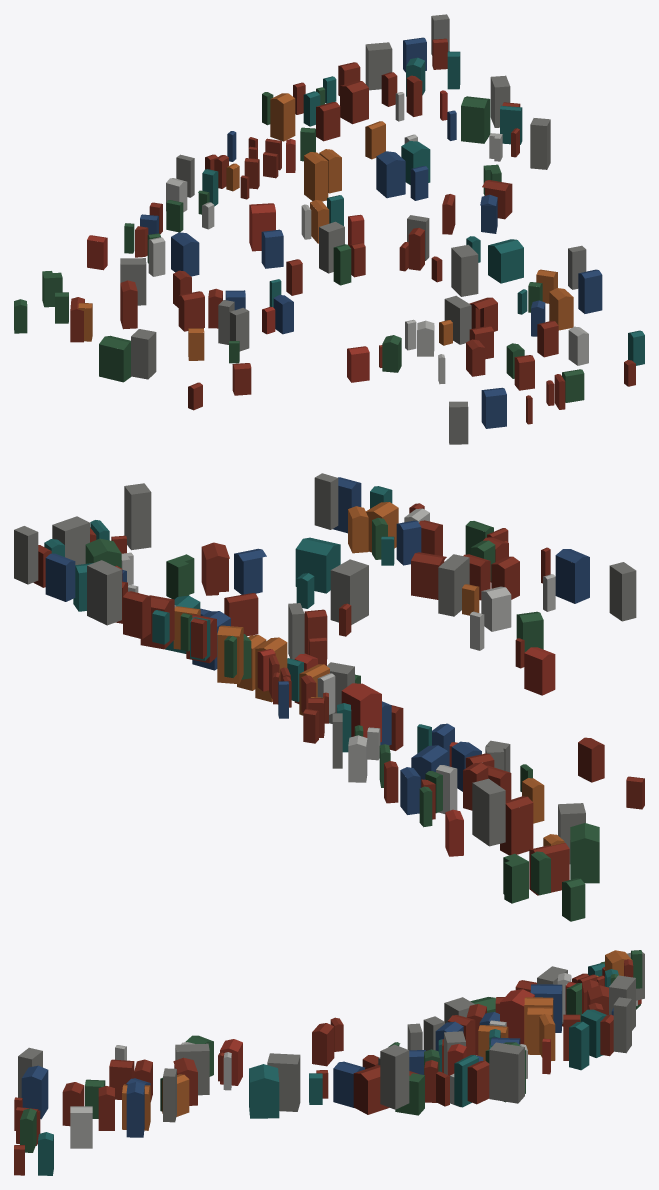
The model's file is near-17-109429-59477.929faeb1.glb.
3 views of the same model, one above another, from view 1: azimuth 30°, elevation 25°; view 2: azimuth 150°, elevation 25°; view 3: azimuth 270°, elevation 25° (orthographic). The views are drawn at different scales.
Size of the model in its own units: 301 by 140 by 297.
